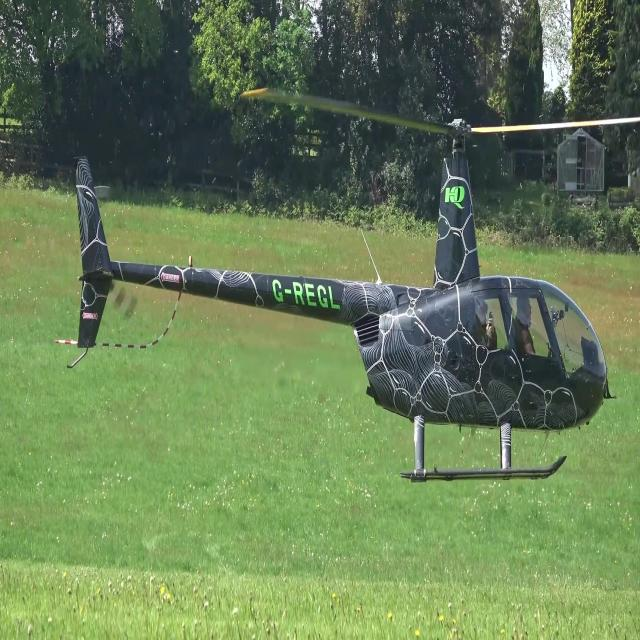CIV_HELO: (70, 116, 613, 486)
